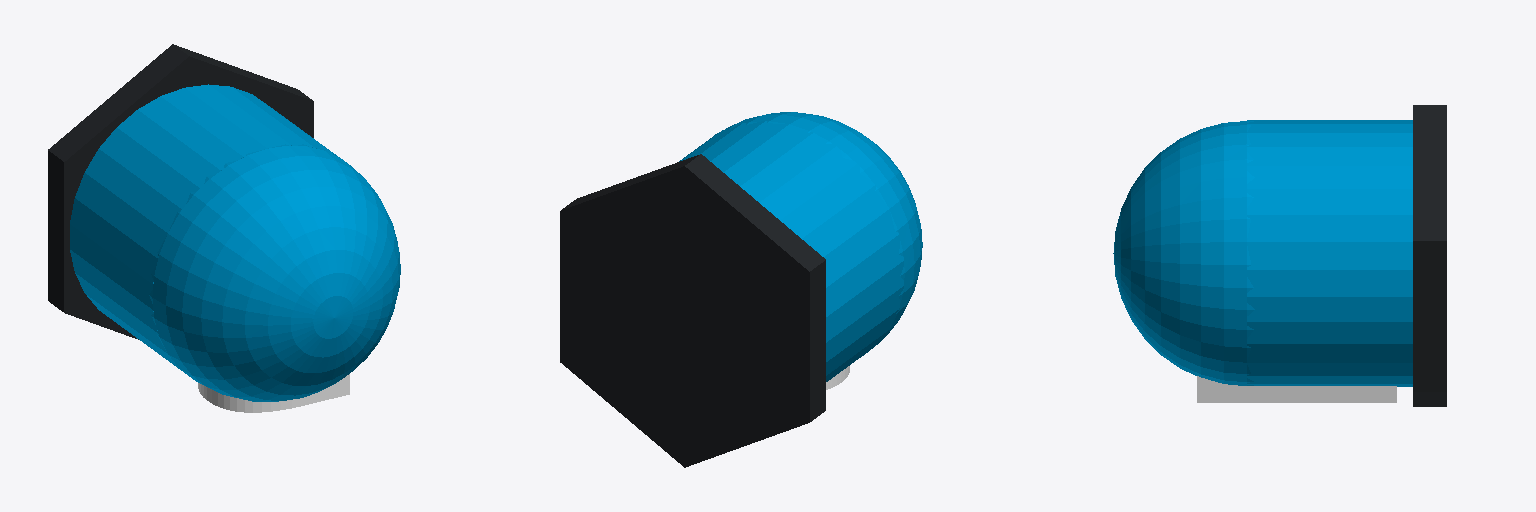
The model's file is tinker.obj.
3 renders of one model, left to right at view 1: azimuth 30°, elevation 25°; view 2: azimuth 150°, elevation 25°; view 3: azimuth 270°, elevation 25°, orthographic.
Parts seen in each view (by area): view 1: obj_0; view 2: obj_0; view 3: obj_0.
Boxes of the visible parts, x1,y1,x2,y2 form: obj_0: [48, 44, 400, 412]; obj_0: [560, 112, 922, 467]; obj_0: [1113, 105, 1446, 406].
Size of the model in its own units: 17.32 by 20 by 20.